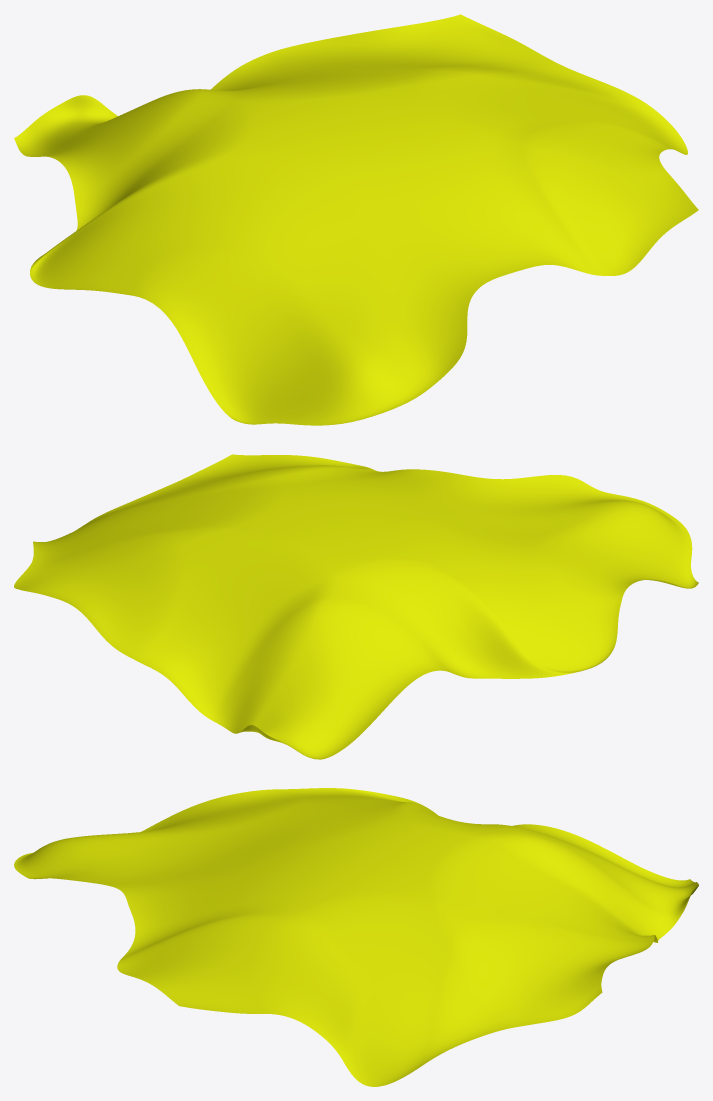
File: beach6.glb
The picture shows the model from 3 angles, top to bottom: view 1: azimuth 30°, elevation 25°; view 2: azimuth 150°, elevation 25°; view 3: azimuth 270°, elevation 25°; orthographic projection. The views are drawn at different scales.
Parts seen in each view (by area): view 1: Plane; view 2: Plane; view 3: Plane.
Boxes of the visible parts, x1,y1,x2,y2 form: Plane: [14, 14, 698, 425]; Plane: [14, 454, 698, 759]; Plane: [14, 788, 698, 1086].
Size of the model in its own units: 121 by 21.05 by 126.
